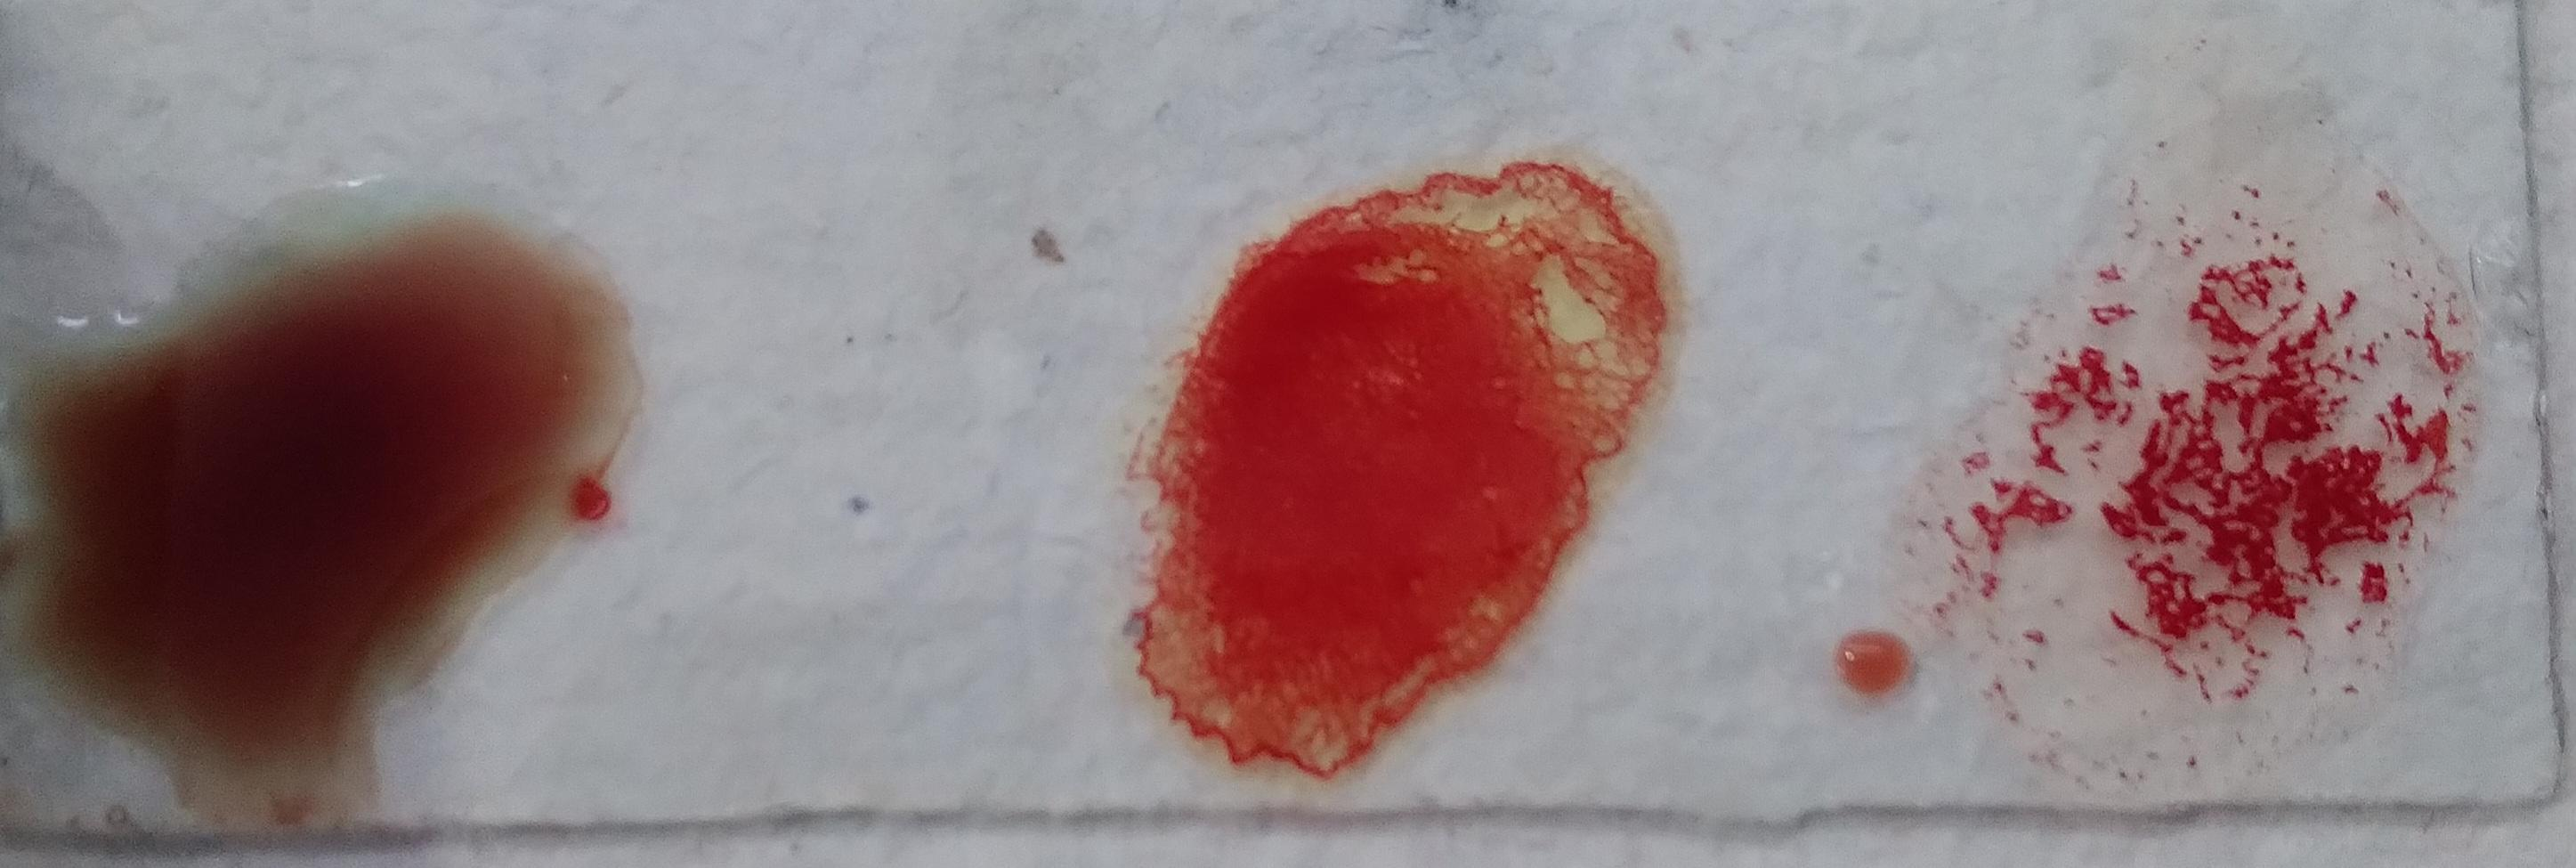B: (910, 64, 1442, 712)
D: (108, 69, 659, 735)
